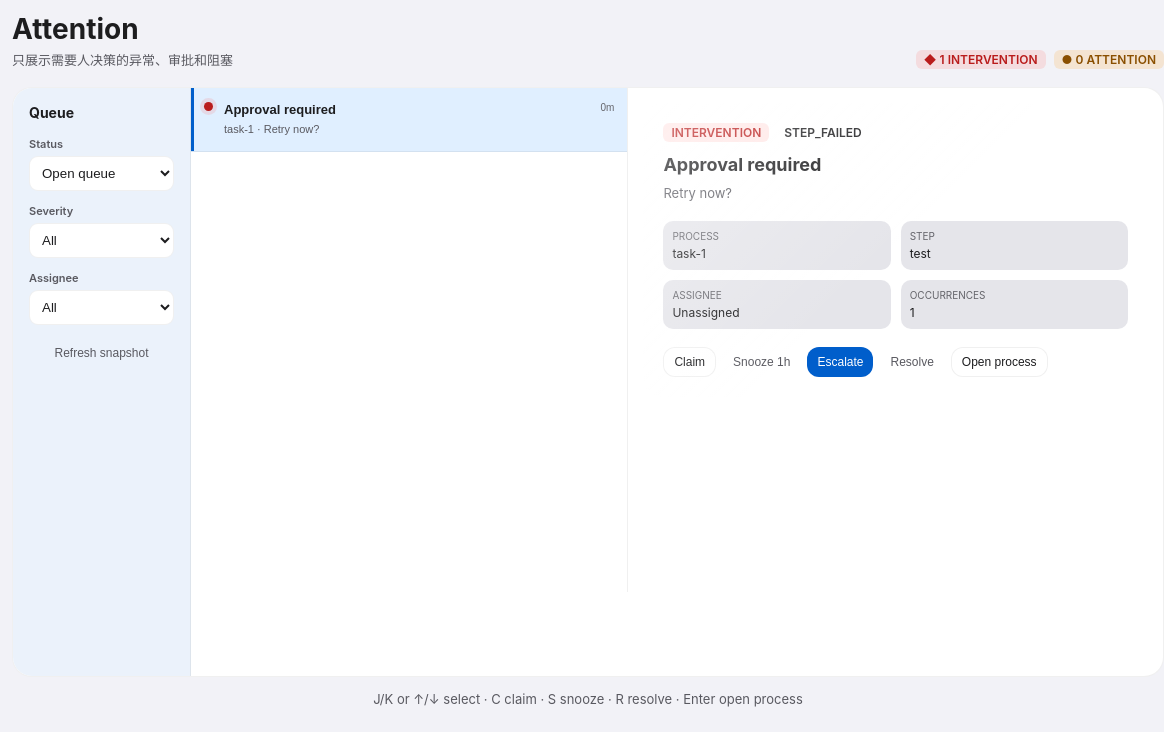
Test: AttentionInbox component › clears a prior error on same-operation success and never reuses its idempotency key
This screenshot has width=1164, height=732.
Expected: the text "Retry now?" is shown, [663,185,732,201]
What coordinates should you click on to do the following:
click the button "Claim"
I would click on:
 (690, 362)
Its box is [663,347,716,377].
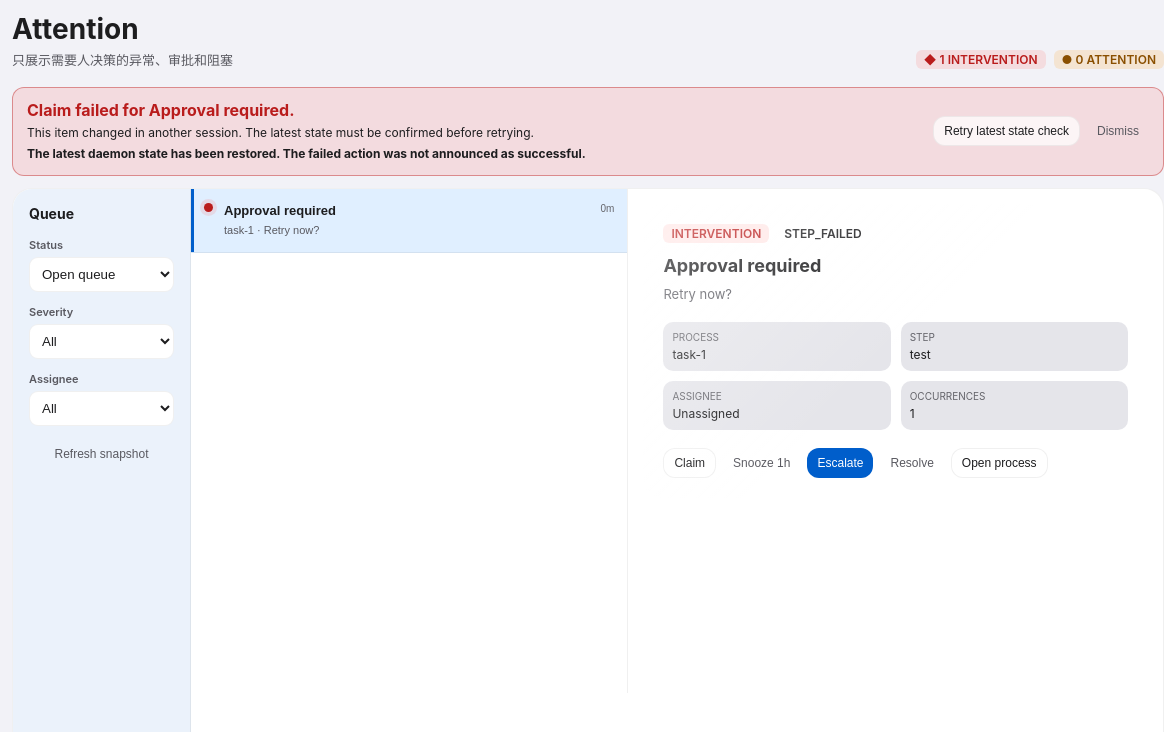
Now the text "Claim failed for Approval required." is shown, box [27,100,294,120]
What coordinates should you click on to do the following:
click the button "Claim"
I would click on:
 (690, 463)
Its box is [663,448,716,478].
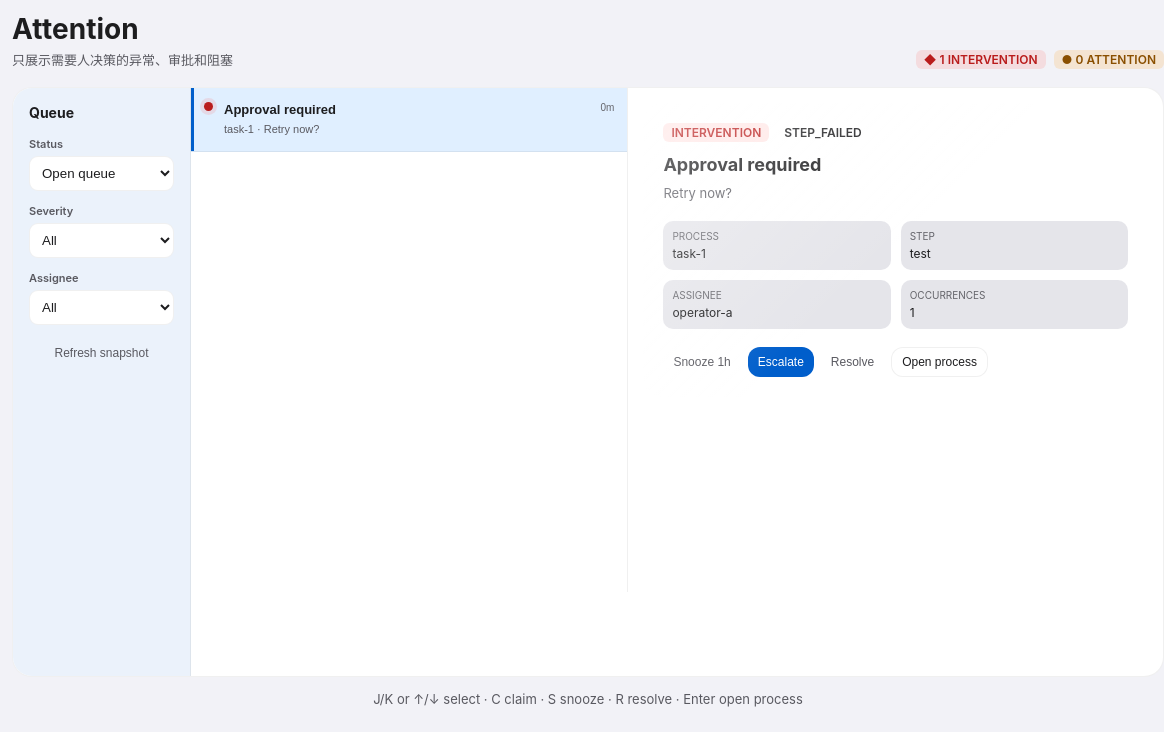
Now the text "Claim failed" is gone
